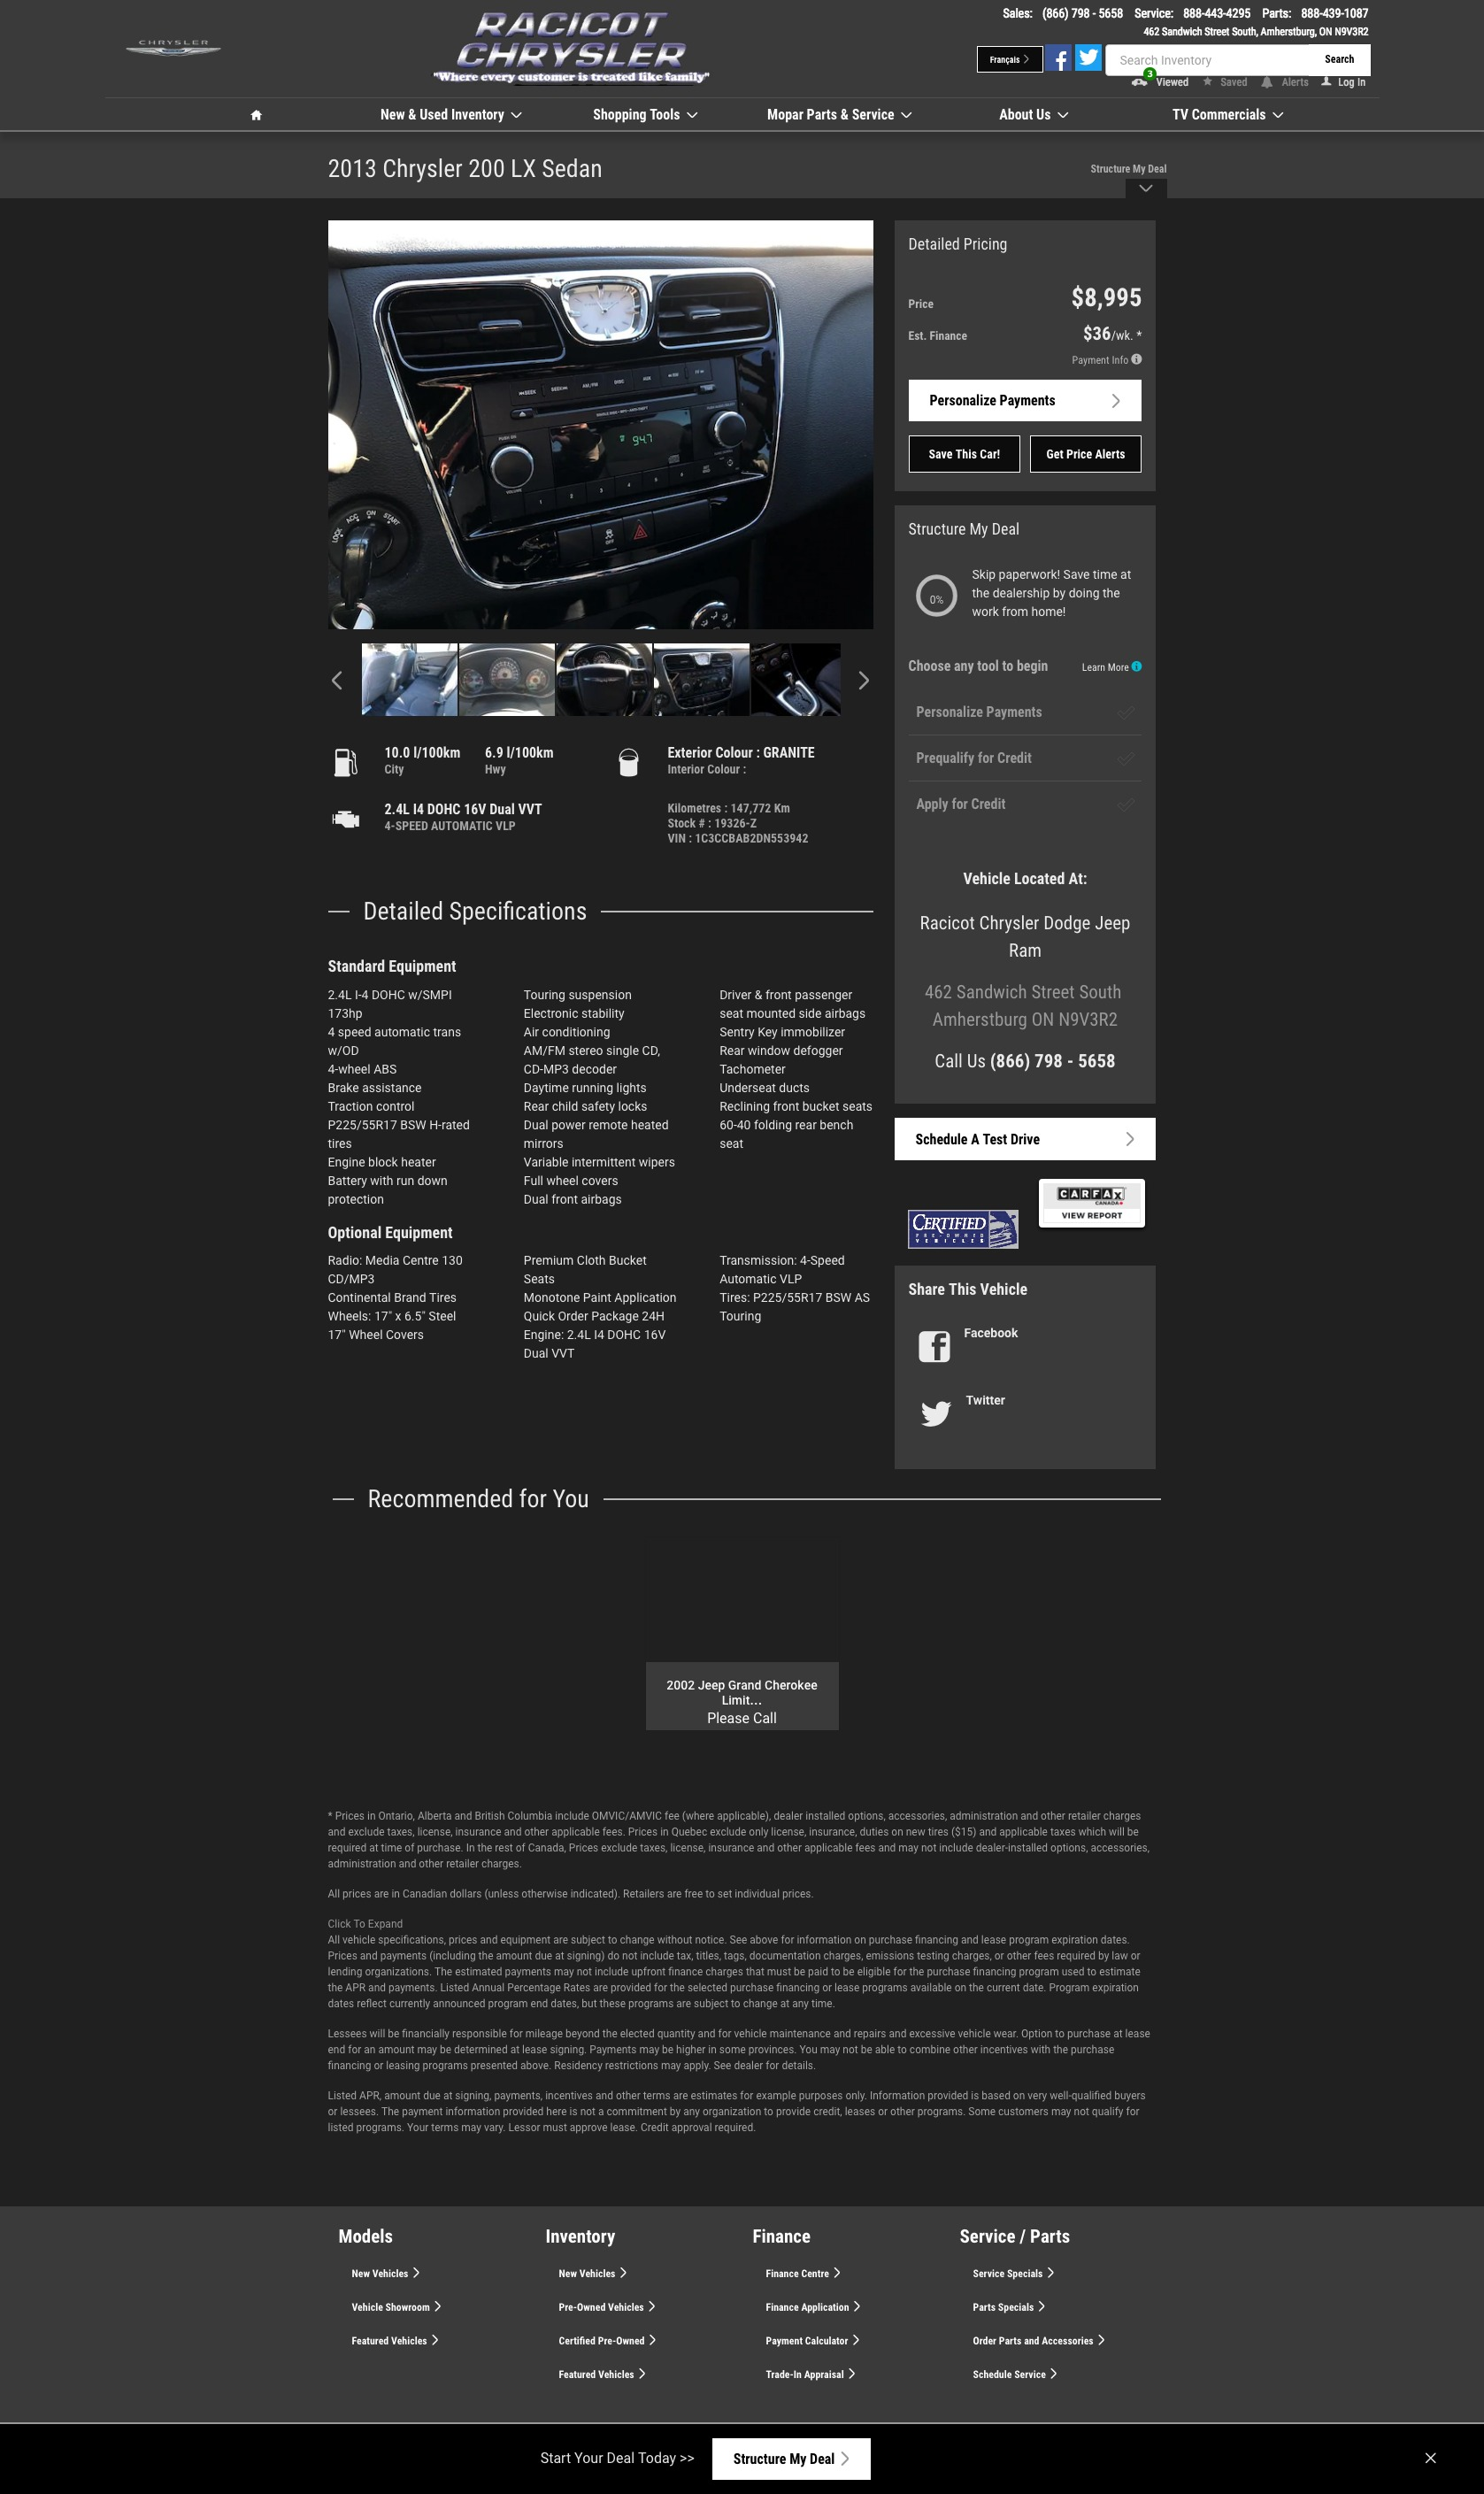car: (857, 671, 871, 692)
